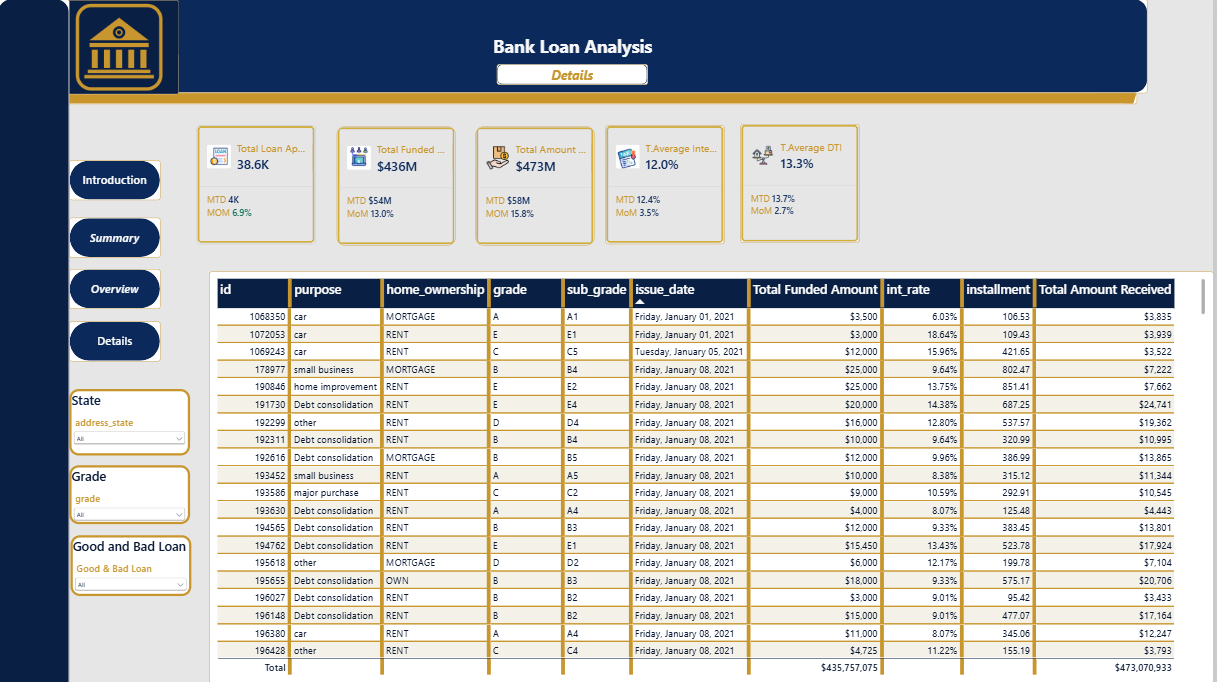

What the dashboard file says about the page in this screenshot:
{"tool":"powerbi","page":{"name":"Details","canvas":[3840,2160],"ordinal":3},"visuals":[{"type":"cardVisual","fields":{"Data":["_Measures.Total Loan Applications"]},"box":[386,222,280,168],"z":0},{"type":"cardVisual","fields":{"Data":["_Measures.Total Funded Amount"]},"box":[1008,220,270,160],"z":1000},{"type":"cardVisual","fields":{"Data":["_Measures.Total Amount Received"]},"box":[700,220,270,163.3],"z":2000},{"type":"cardVisual","fields":{"Data":["_Measures.T.Average DTI"]},"box":[1650,220,270,160],"z":3000},{"type":"shape","box":[32.5,55,275,215],"z":4000},{"type":"actionButton","box":[42,306,192,84],"z":5000},{"type":"actionButton","box":[37.5,522.5,192,84],"z":6000},{"type":"actionButton","box":[35,650,192,84],"z":7000},{"type":"actionButton","box":[37.5,407.5,192,84],"z":8000},{"type":"slicer","title":"State","fields":{"Values":["financial_loan.address_state"]},"box":[36,756,254,140],"z":9000},{"type":"slicer","title":"Grade","fields":{"Values":["financial_loan.grade"]},"box":[36,918,254,124],"z":10000},{"type":"slicer","title":"Good and Loan","fields":{"Values":["financial_loan.Good & Bad Loan"]},"box":[36,1080,254,128],"z":11000},{"type":"shape","box":[567.5,17.5,1062.5,165],"z":12000},{"type":"cardVisual","fields":{"Data":["_Measures.Average Interest Rate"]},"box":[1334,220,270,160],"z":13000},{"type":"tableEx","fields":{"Values":["financial_loan.id","financial_loan.purpose","financial_loan.home_ownership","financial_loan.grade","financial_loan.sub_grade","financial_loan.issue_date","_Measures.Total Funded Amount","financial_loan.int_rate","financial_loan.installment","_Measures.Total Amount Received"]},"box":[386,450,2166,1710],"z":14000},{"type":"image","box":[16,38,332,232],"z":15000}]}

Visuals, with their boxes on the page's 3840x2160 design canvas (x1, y1, x2, y2). These are canvas units, not pixel positions in the 1217x682 screenshot, which may show the page scaled, cropped or inside an application window:
cardVisual - _Measures.Total Loan Applications: region(386, 222, 666, 390)
cardVisual - _Measures.Total Funded Amount: region(1008, 220, 1278, 380)
cardVisual - _Measures.Total Amount Received: region(700, 220, 970, 383)
cardVisual - _Measures.T.Average DTI: region(1650, 220, 1920, 380)
shape: region(32, 55, 308, 270)
actionButton: region(42, 306, 234, 390)
actionButton: region(38, 522, 230, 606)
actionButton: region(35, 650, 227, 734)
actionButton: region(38, 408, 230, 492)
"State" slicer: region(36, 756, 290, 896)
"Grade" slicer: region(36, 918, 290, 1042)
"Good and Loan" slicer: region(36, 1080, 290, 1208)
shape: region(568, 18, 1630, 182)
cardVisual - _Measures.Average Interest Rate: region(1334, 220, 1604, 380)
tableEx - financial_loan.id x financial_loan.purpose: region(386, 450, 2552, 2160)
image: region(16, 38, 348, 270)
